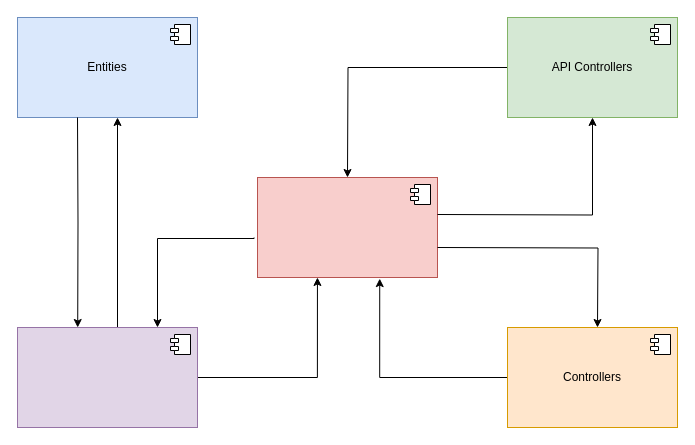
The diagram is 695 pixels wide and 445 high, and some of its shapes have lost their labels. Here are the shapes that lost their labels. From the top down, the centre of each, then its label:
pixel 347 227: Services
pixel 107 377: Repositories
